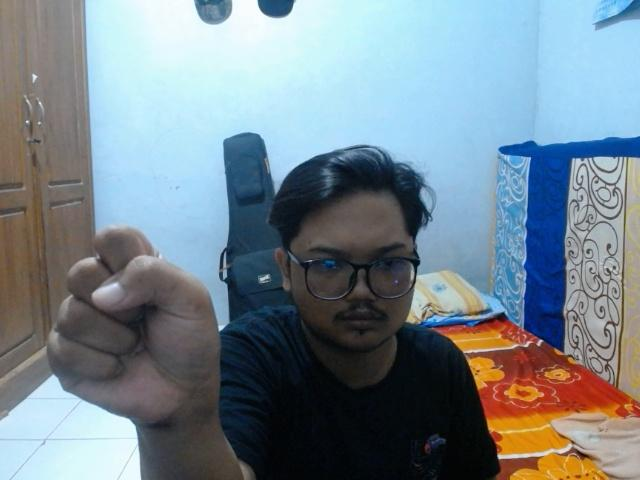Grab: (41, 222, 229, 428)
